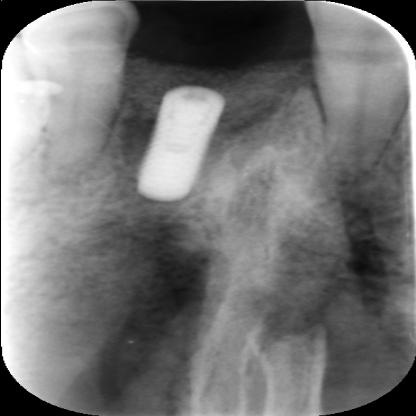ITI: (129, 83, 231, 205)
